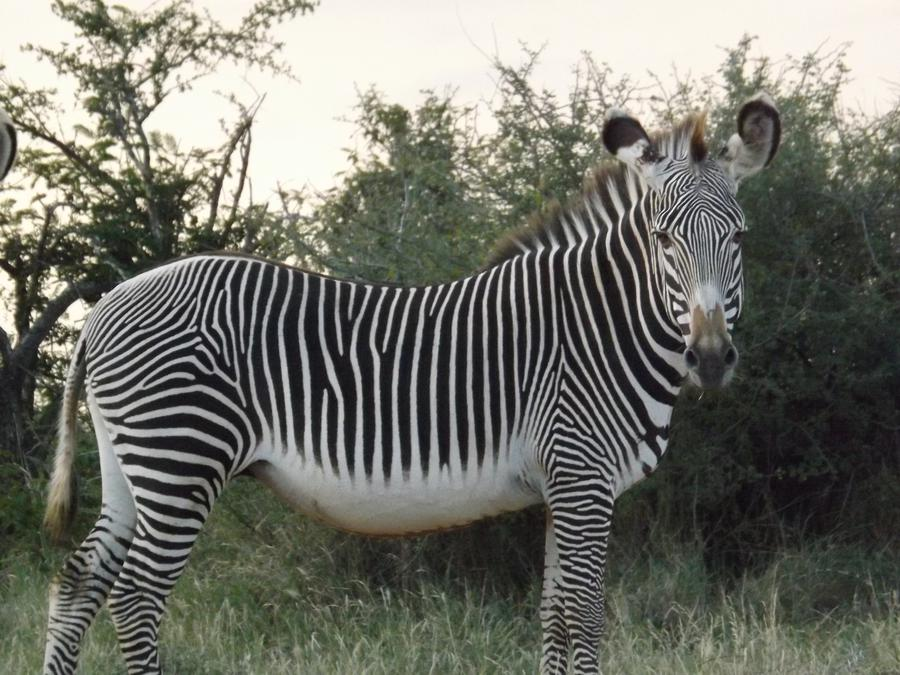zebra_grevys: (78, 220, 623, 502)
